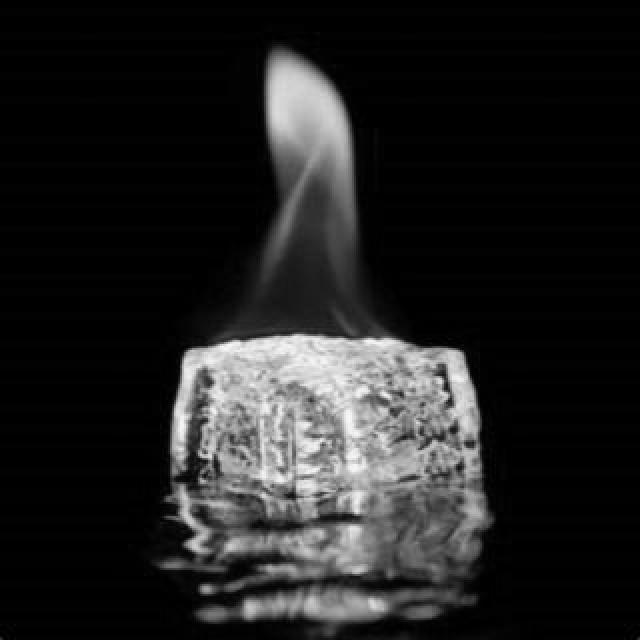Fire: (214, 34, 398, 364)
